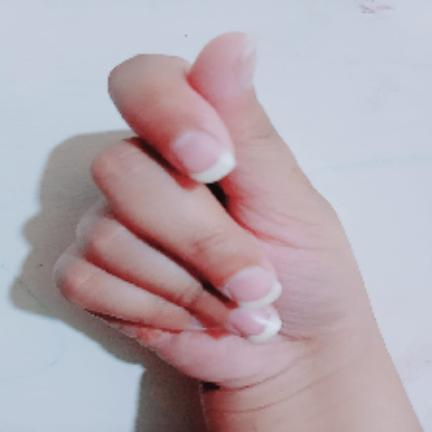Nail: (173, 131, 235, 183), (227, 267, 282, 308), (230, 305, 282, 343), (238, 38, 256, 92)
